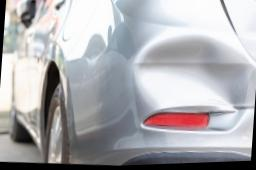Bumper: (127, 25, 256, 138)
